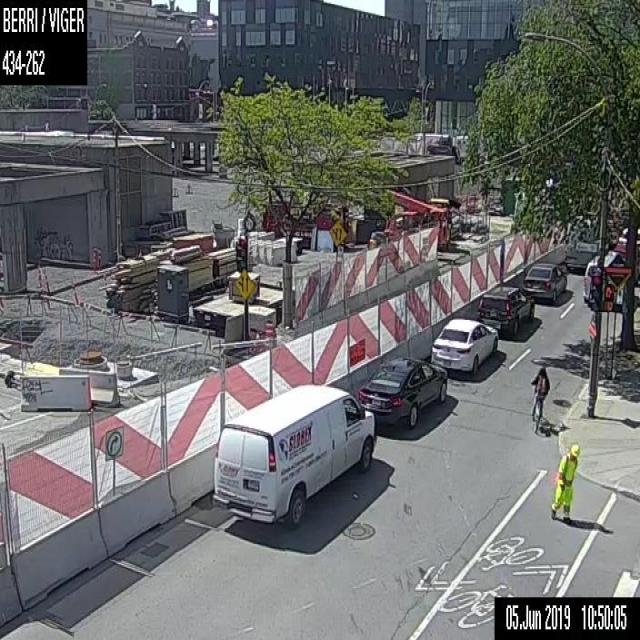construction: (264, 317, 273, 345)
cyclist: (527, 365, 550, 432)
pedestrian: (548, 440, 581, 524)
vehicle: (210, 381, 378, 532), (358, 356, 444, 430), (429, 315, 500, 379), (478, 284, 536, 334), (582, 252, 622, 307), (523, 260, 568, 302)
